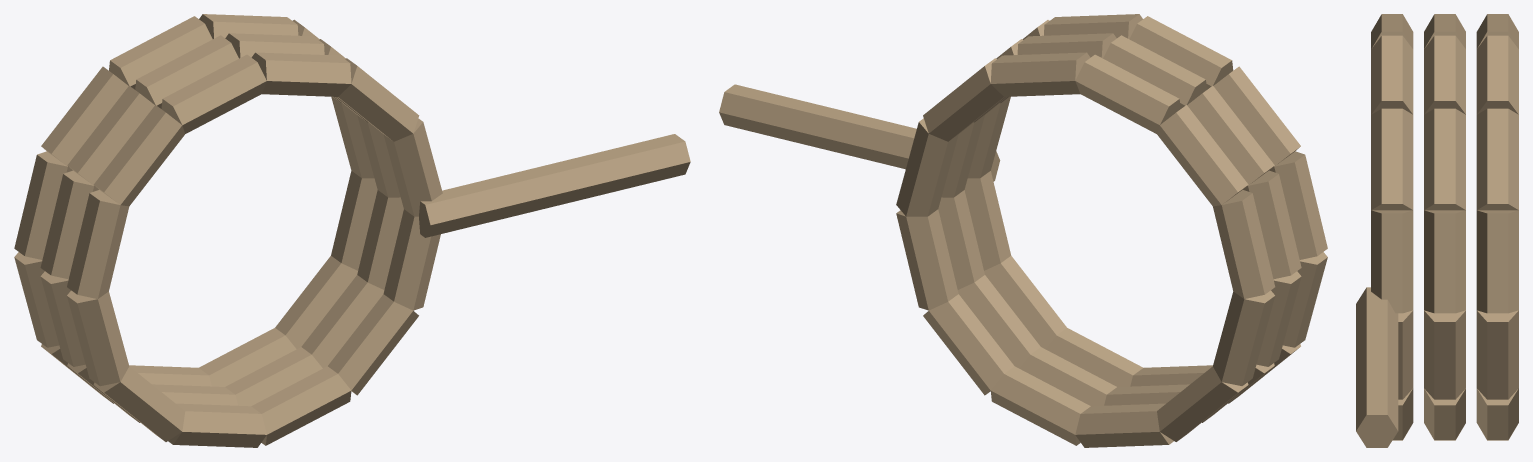
File: rope.glb
3 views of the same model, side by side, from view 1: azimuth 30°, elevation 25°; view 2: azimuth 150°, elevation 25°; view 3: azimuth 270°, elevation 25° (orthographic).
Visible parts, largest first — view 1: 36_rope_end, 29_rope_coil, 28_rope_coil, 27_rope_coil, 34_rope_coil, 33_rope_coil, 30_rope_coil, 26_rope_coil, 32_rope_coil, 35_rope_coil, 16_rope_coil, 04_rope_coil (+21 smaller); view 2: 36_rope_end, 05_rope_coil, 04_rope_coil, 03_rope_coil, 10_rope_coil, 11_rope_coil, 09_rope_coil, 06_rope_coil, 02_rope_coil, 00_rope_coil, 08_rope_coil, 16_rope_coil (+21 smaller); view 3: 36_rope_end, 00_rope_coil, 25_rope_coil, 01_rope_coil, 12_rope_coil, 13_rope_coil, 24_rope_coil, 11_rope_coil, 23_rope_coil, 26_rope_coil, 02_rope_coil, 14_rope_coil (+7 smaller).
Part boxes in pixels (left/top/right/bottom): 36_rope_end: left=419, top=134, right=690, bottom=237; 29_rope_coil: left=67, top=190, right=129, bottom=298; 28_rope_coil: left=93, top=105, right=184, bottom=206; 27_rope_coil: left=161, top=54, right=266, bottom=133; 34_rope_coil: left=328, top=294, right=418, bottom=395; 33_rope_coil: left=251, top=366, right=351, bottom=445; 30_rope_coil: left=67, top=290, right=129, bottom=386; 26_rope_coil: left=251, top=52, right=351, bottom=96; 32_rope_coil: left=168, top=403, right=266, bottom=447; 35_rope_coil: left=383, top=209, right=440, bottom=310; 16_rope_coil: left=67, top=85, right=154, bottom=185; 04_rope_coil: left=41, top=66, right=128, bottom=166; 36_rope_end: left=719, top=84, right=1000, bottom=181; 05_rope_coil: left=1213, top=190, right=1275, bottom=298; 04_rope_coil: left=1157, top=105, right=1248, bottom=206; 03_rope_coil: left=1075, top=54, right=1180, bottom=133; 10_rope_coil: left=923, top=294, right=1014, bottom=395; 11_rope_coil: left=896, top=209, right=958, bottom=310; 09_rope_coil: left=990, top=366, right=1090, bottom=445; 06_rope_coil: left=1213, top=290, right=1275, bottom=385; 02_rope_coil: left=990, top=52, right=1090, bottom=96; 00_rope_coil: left=896, top=118, right=958, bottom=216; 08_rope_coil: left=1075, top=403, right=1173, bottom=447; 16_rope_coil: left=1187, top=86, right=1274, bottom=185; 36_rope_end: left=1356, top=287, right=1398, bottom=447; 00_rope_coil: left=1476, top=210, right=1518, bottom=313; 25_rope_coil: left=1371, top=108, right=1413, bottom=210; 01_rope_coil: left=1476, top=108, right=1518, bottom=210; 12_rope_coil: left=1424, top=210, right=1465, bottom=313; 13_rope_coil: left=1424, top=108, right=1465, bottom=210; 24_rope_coil: left=1371, top=210, right=1413, bottom=313; 11_rope_coil: left=1476, top=310, right=1518, bottom=399; 23_rope_coil: left=1424, top=310, right=1465, bottom=399; 26_rope_coil: left=1371, top=35, right=1413, bottom=114; 02_rope_coil: left=1476, top=35, right=1518, bottom=114; 14_rope_coil: left=1424, top=35, right=1465, bottom=114.
Bounding box in the file's own units: 0.4617 × 0.2834 × 0.108.
